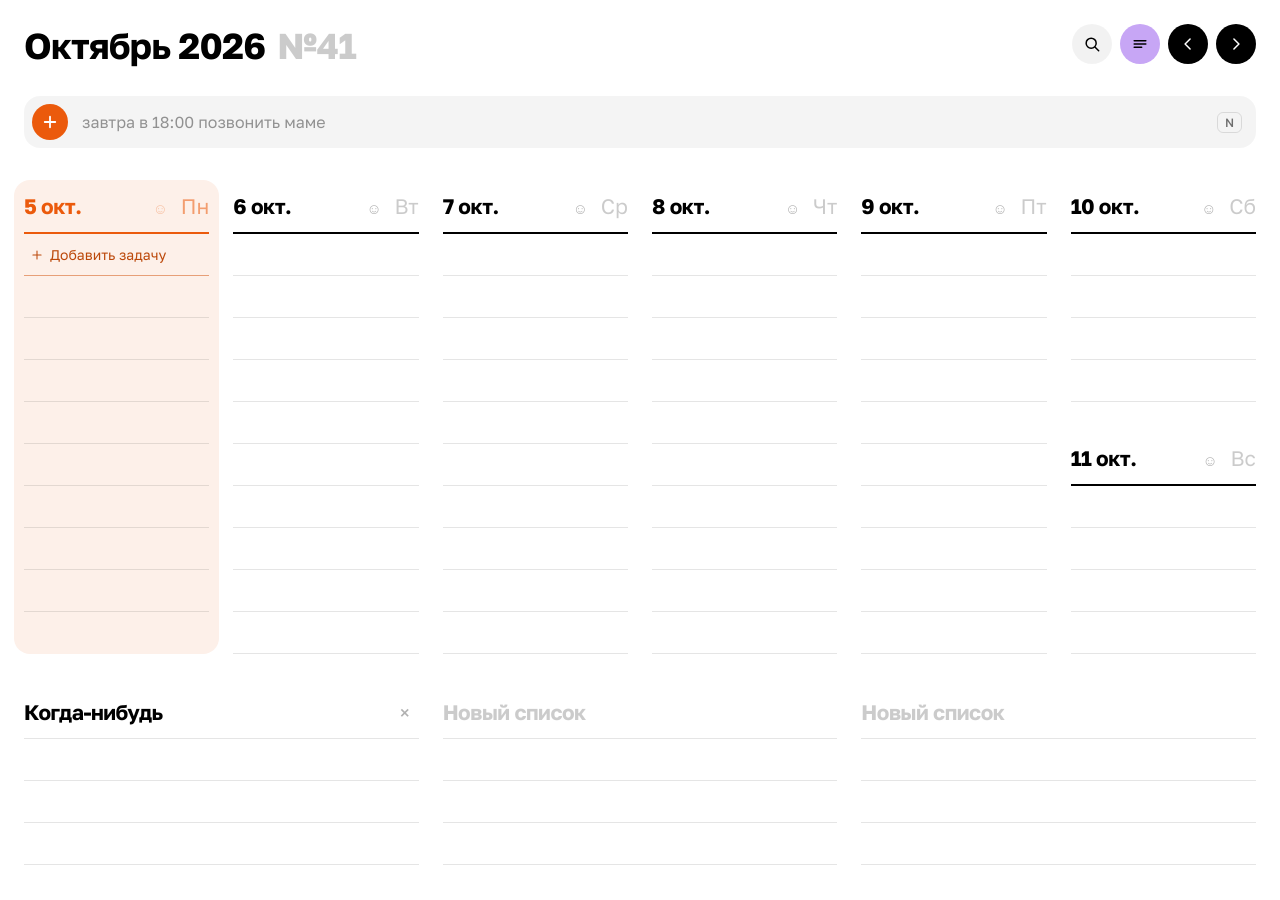
Test: неделя › подписывает праздники РФ, но выходные выглядят как будни
Step 1. Click the button named "Следующая неделя" → [1236, 44], box [1216,24,1256,64]
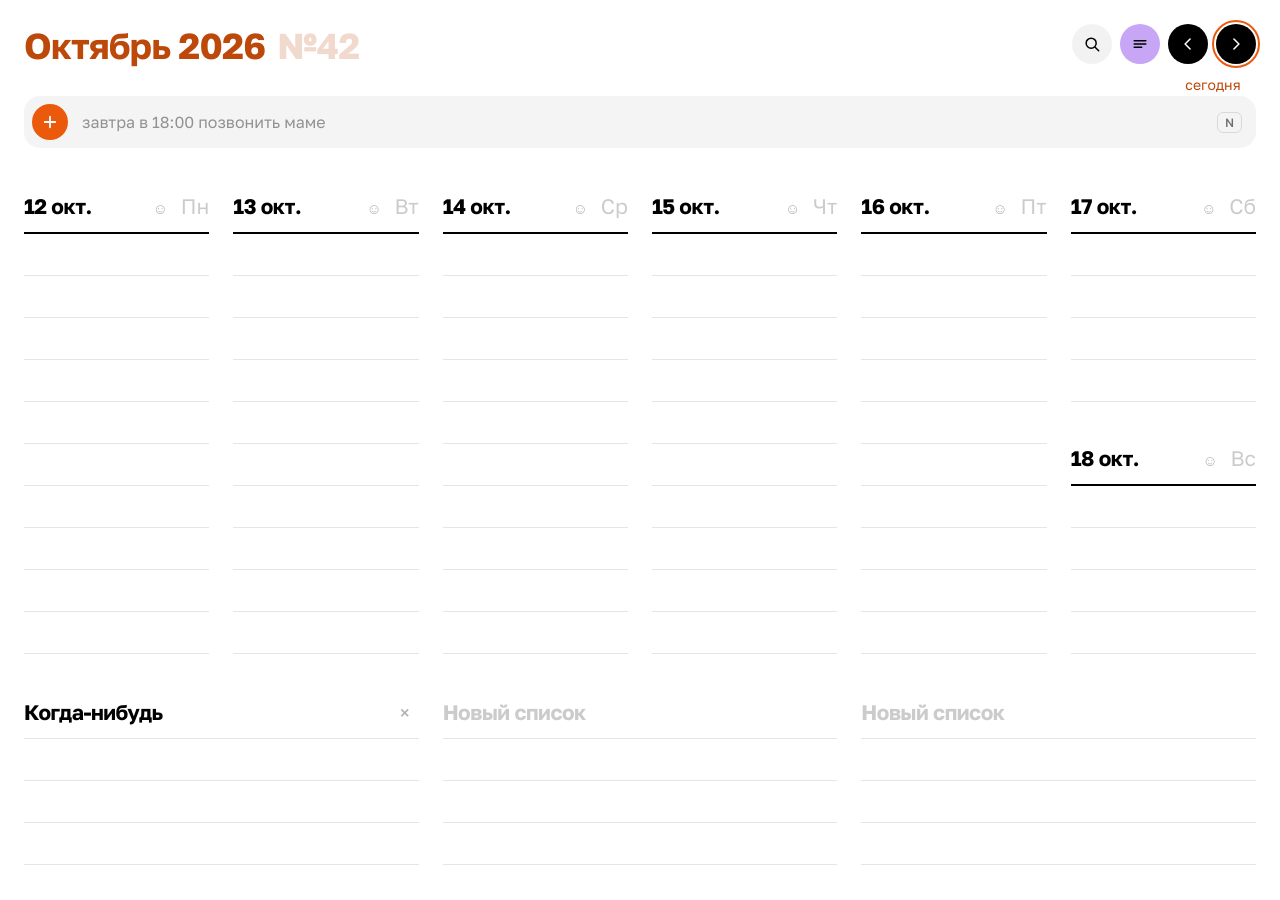
Step 2. Click the button named "Следующая неделя" → [1236, 44], box [1216,24,1256,64]
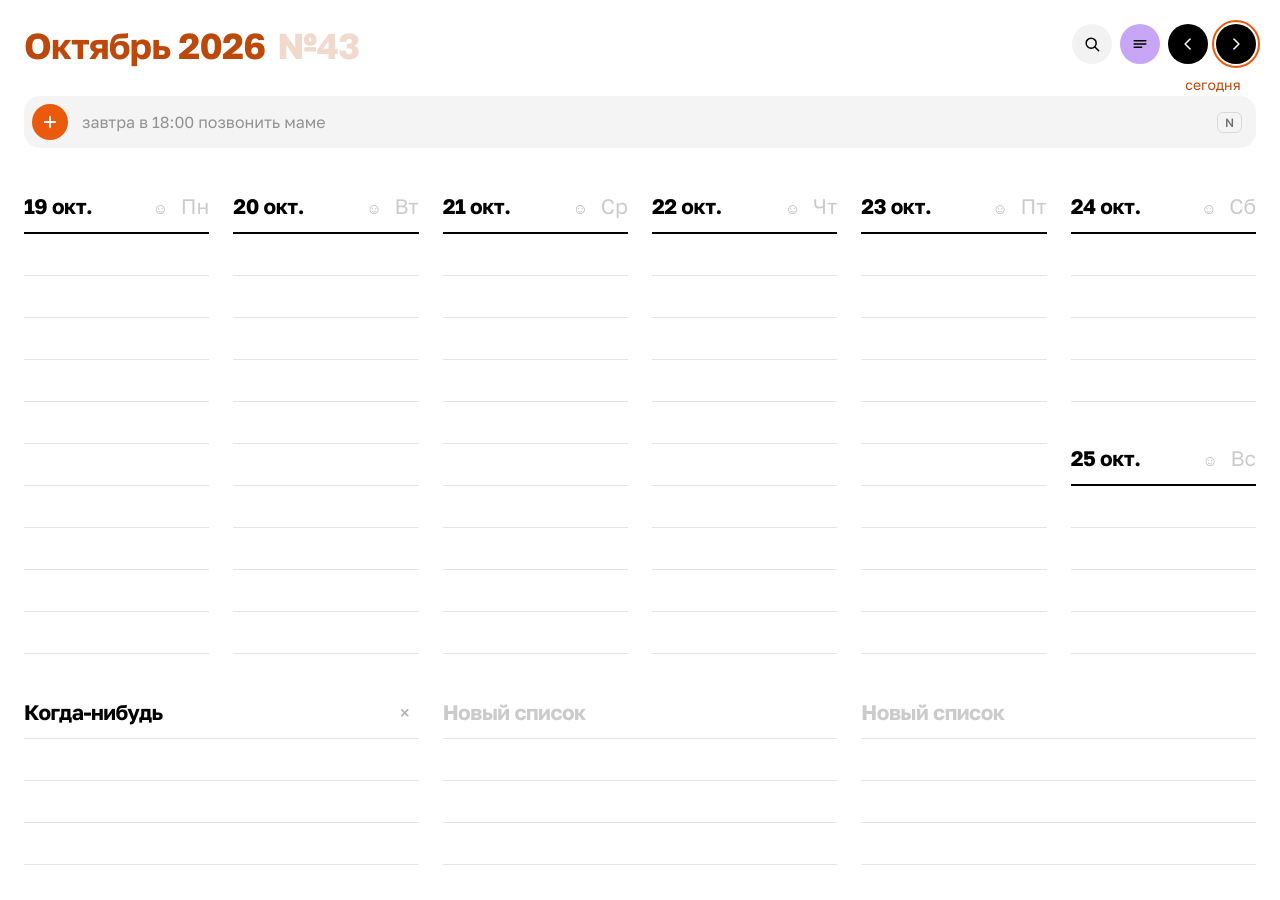
Step 3. Click the button named "Следующая неделя" → [1236, 44], box [1216,24,1256,64]
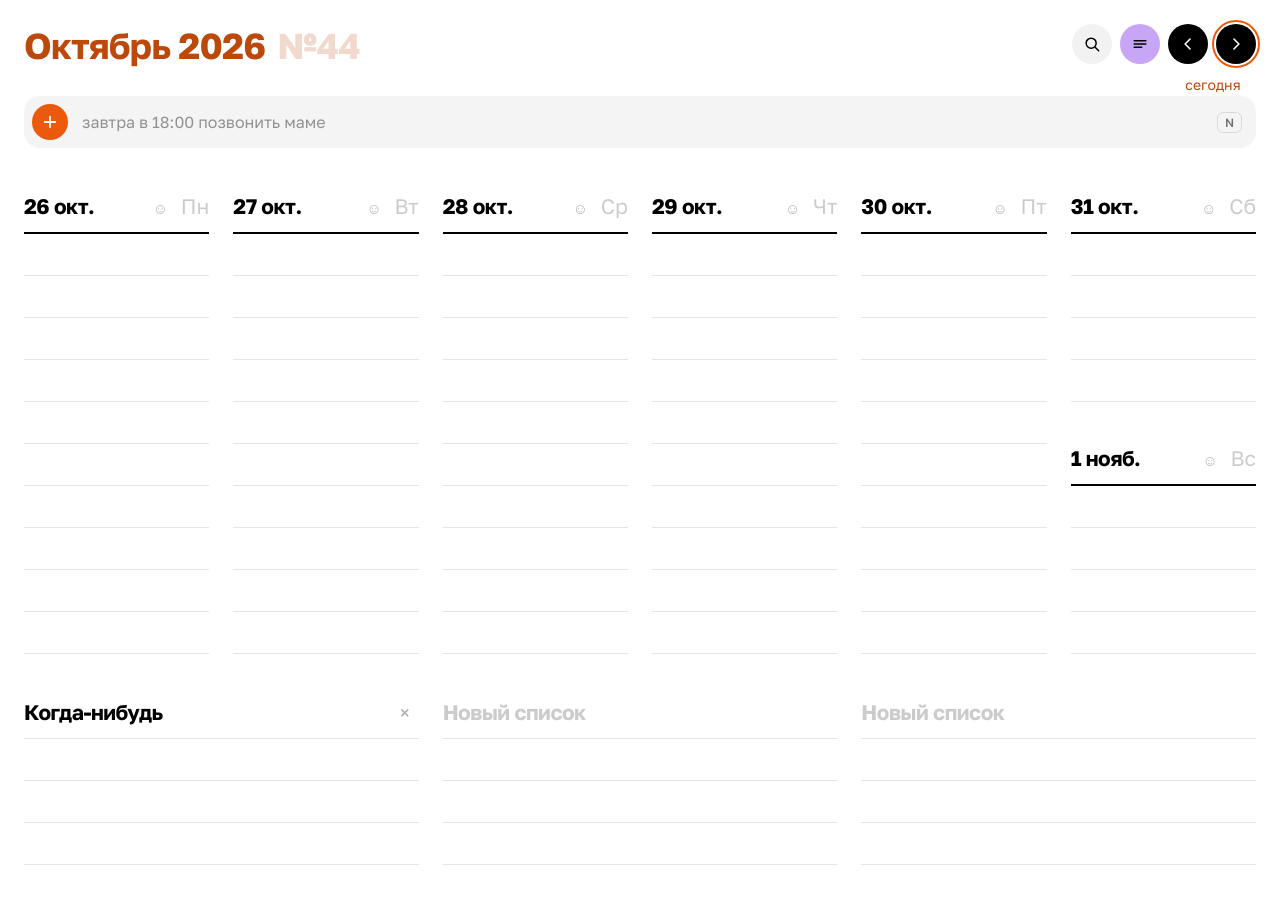
Step 4. Click the button named "Следующая неделя" → [1236, 44], box [1216,24,1256,64]
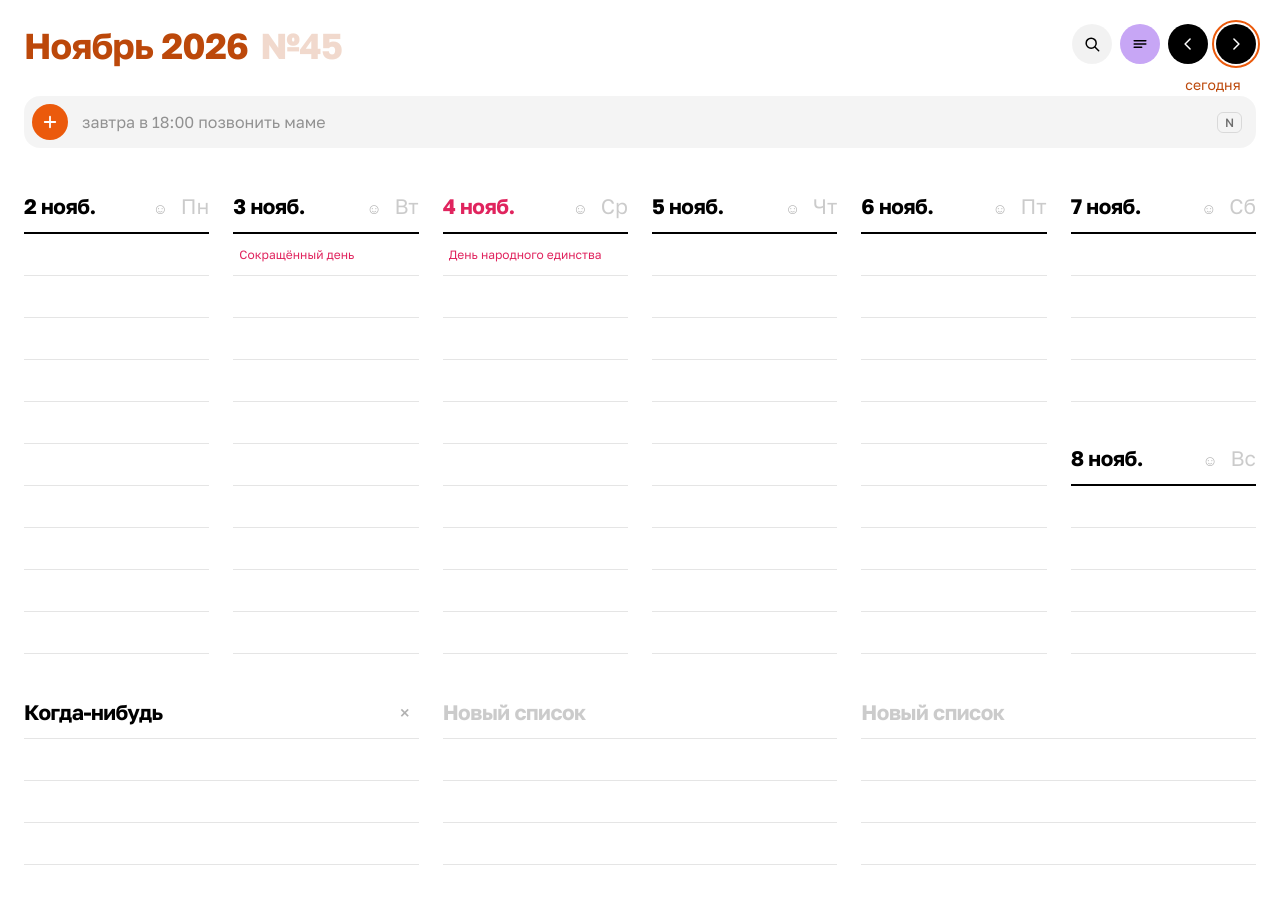
Expected: the text "День народного единства" is shown, [443,234,628,276]
Expected: the text "Сокращённый день" is shown, [233,234,419,276]
